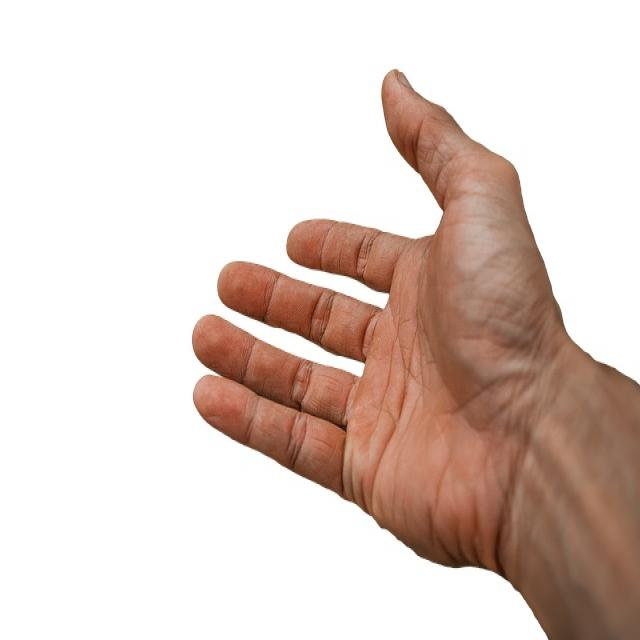bare_hand: (191, 67, 588, 593)
